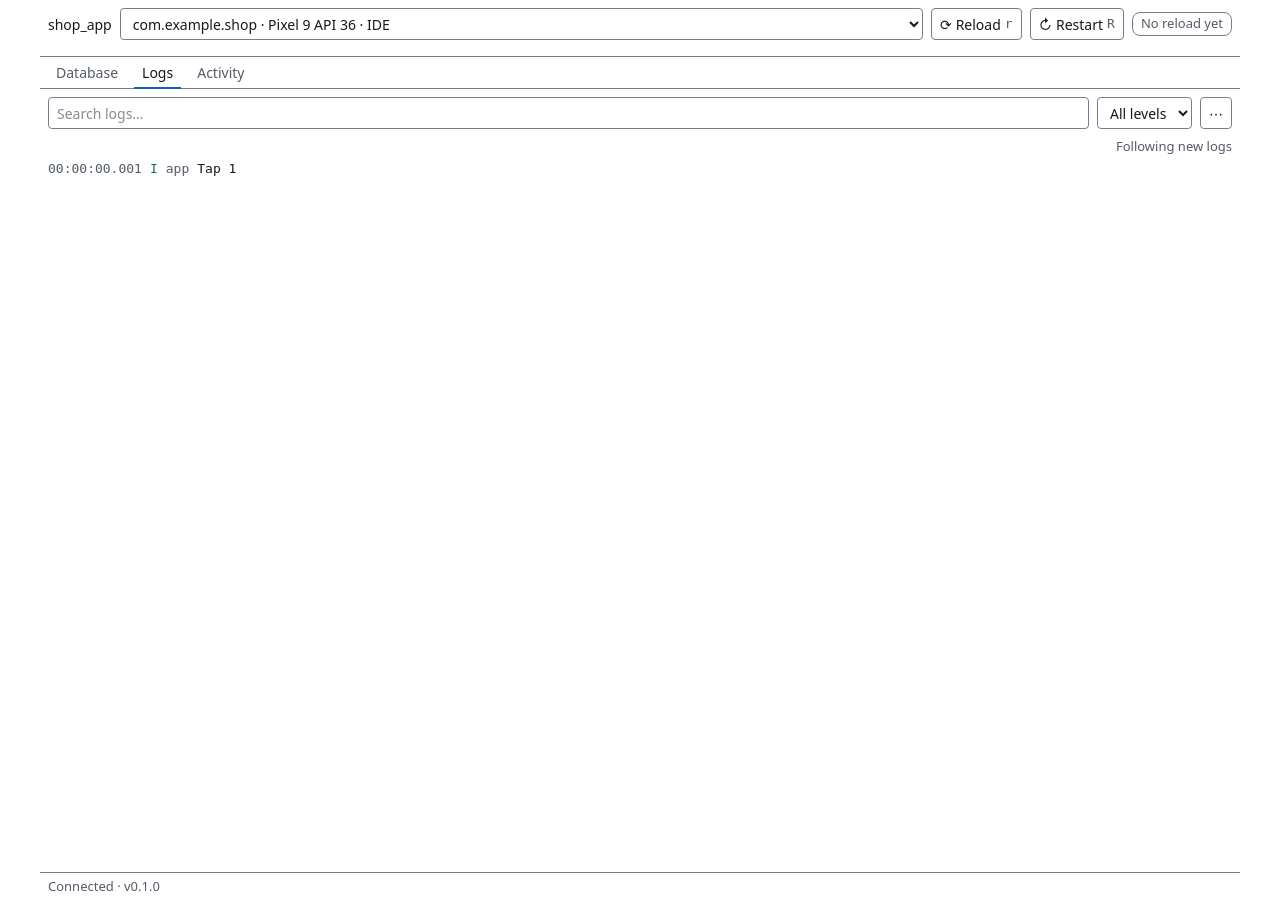
focus order and dialogs › the dialog traps Tab, closes on Escape and gives focus back to ⋯
Check: the text "shop_app" is shown, box 48,14 -> 112,34
Click the button named "More log options" at (1216, 113), box 1200,97 -> 1232,129
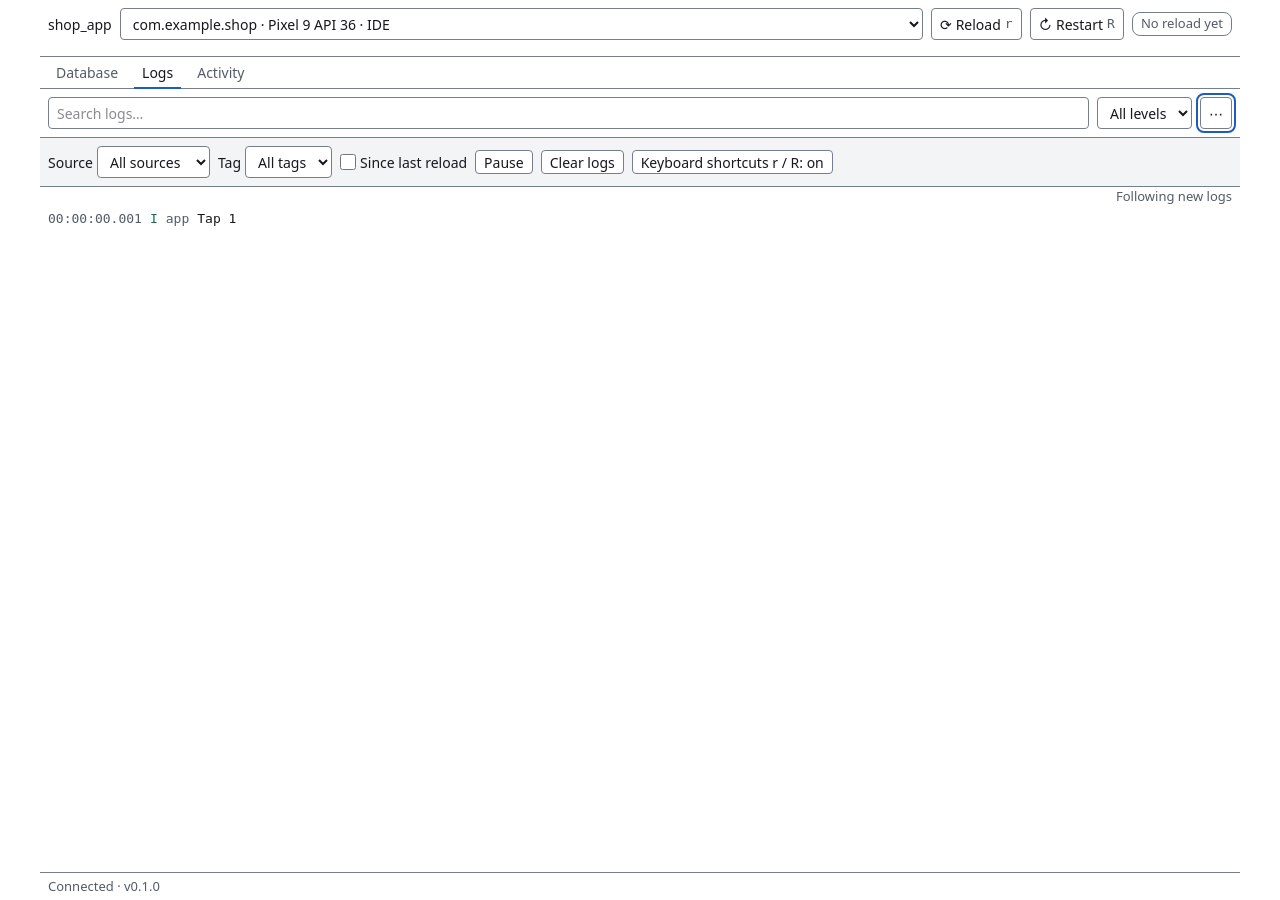
Click the button "Clear logs" at (582, 162), box 541,150 -> 624,174
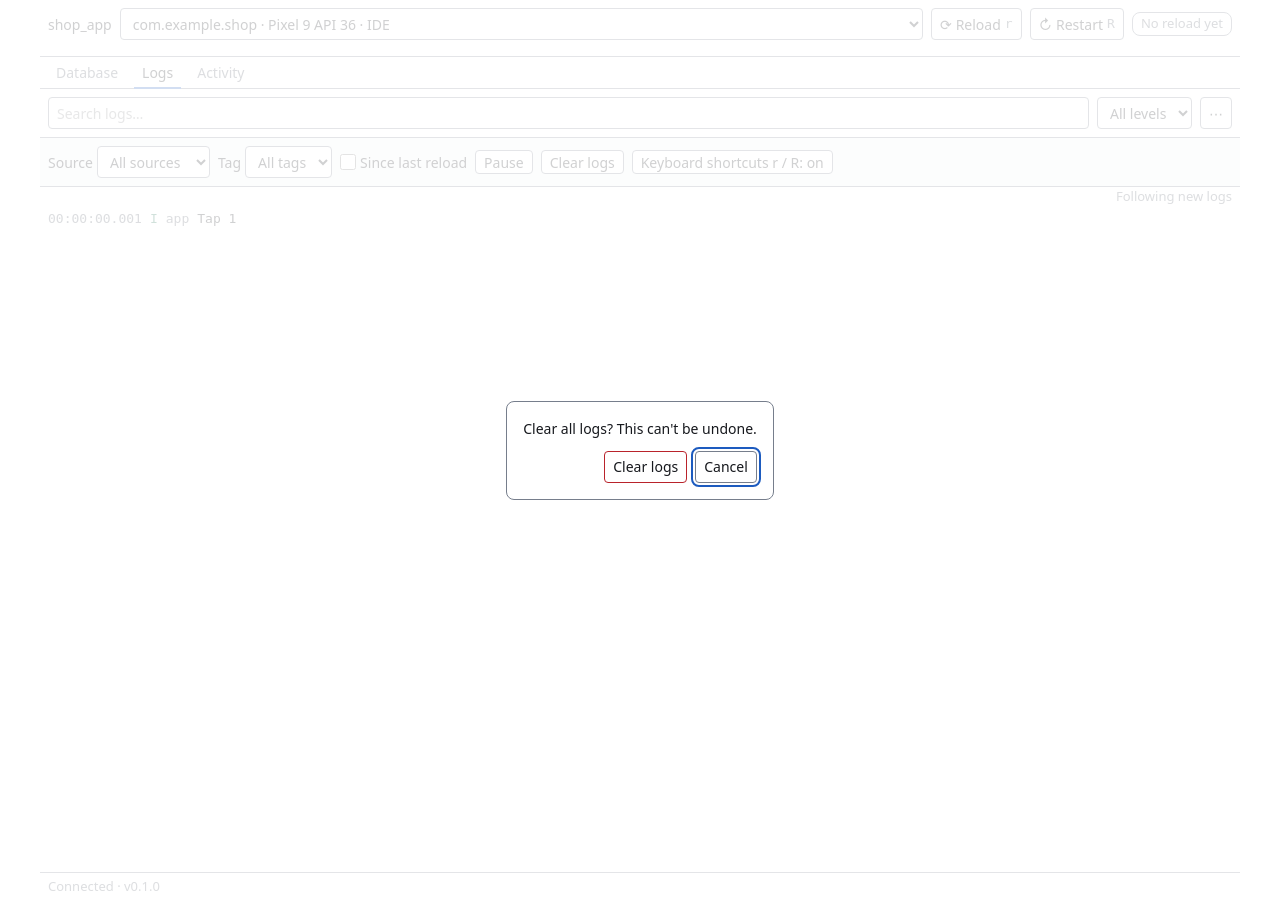
Press Tab
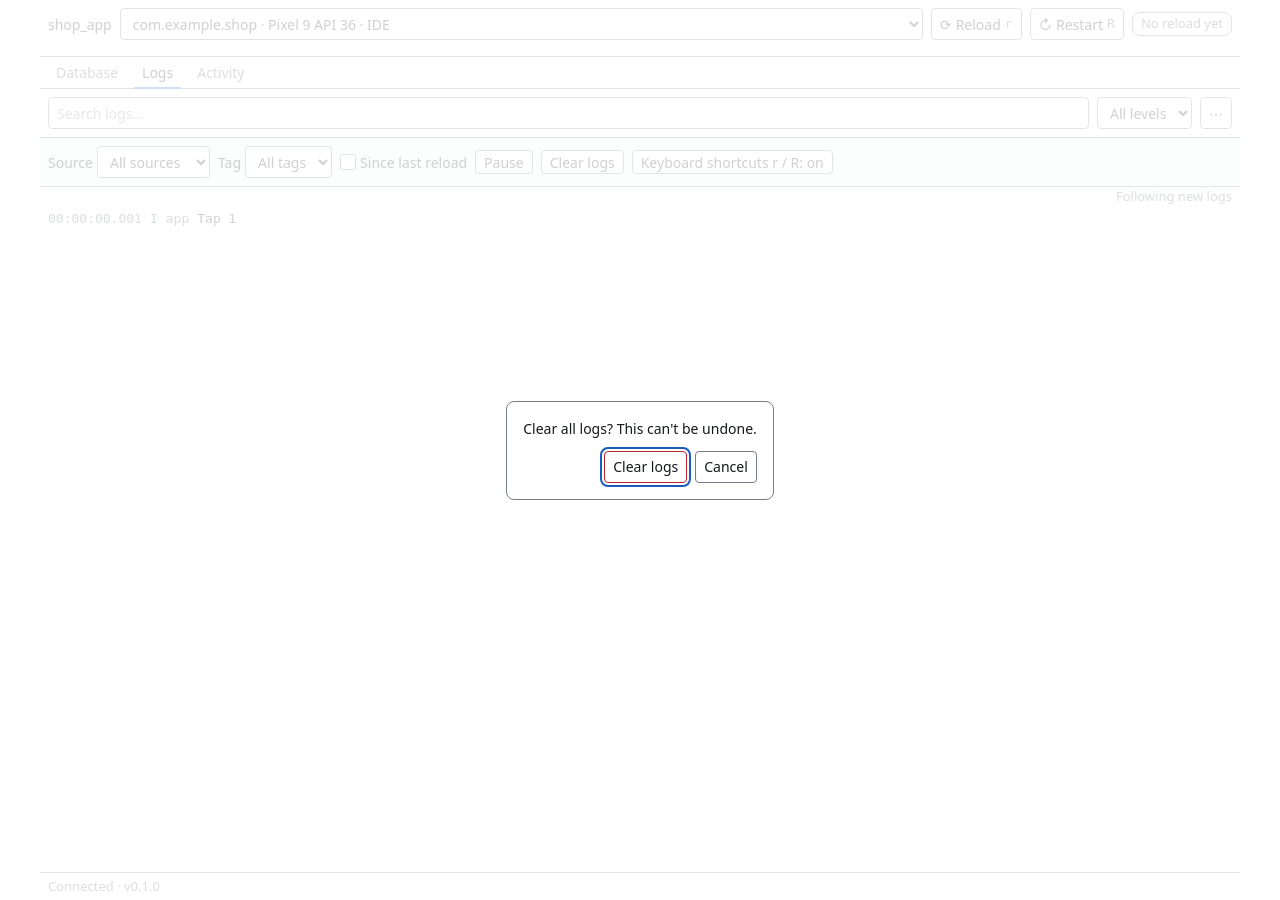
Press Tab
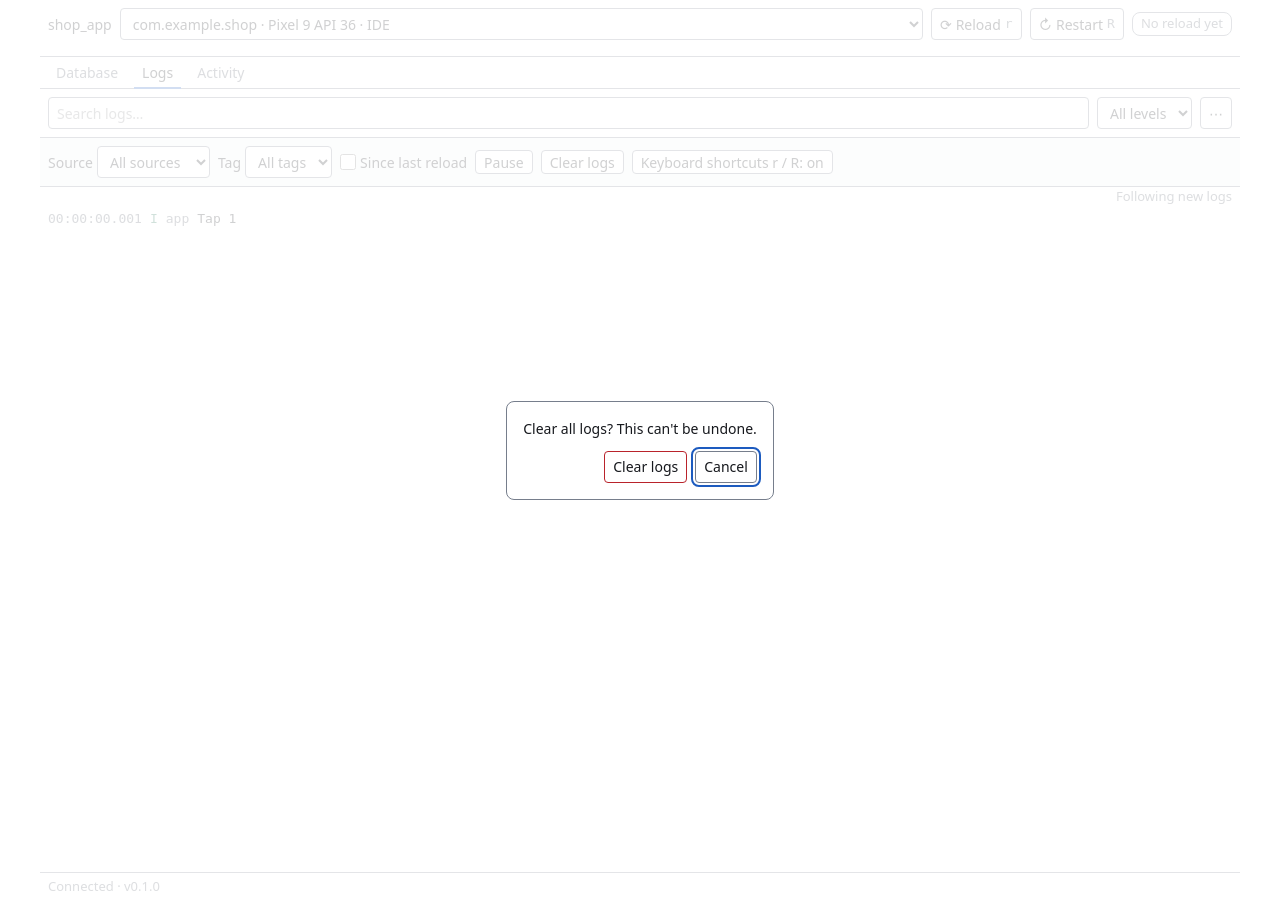
Press Shift+Tab
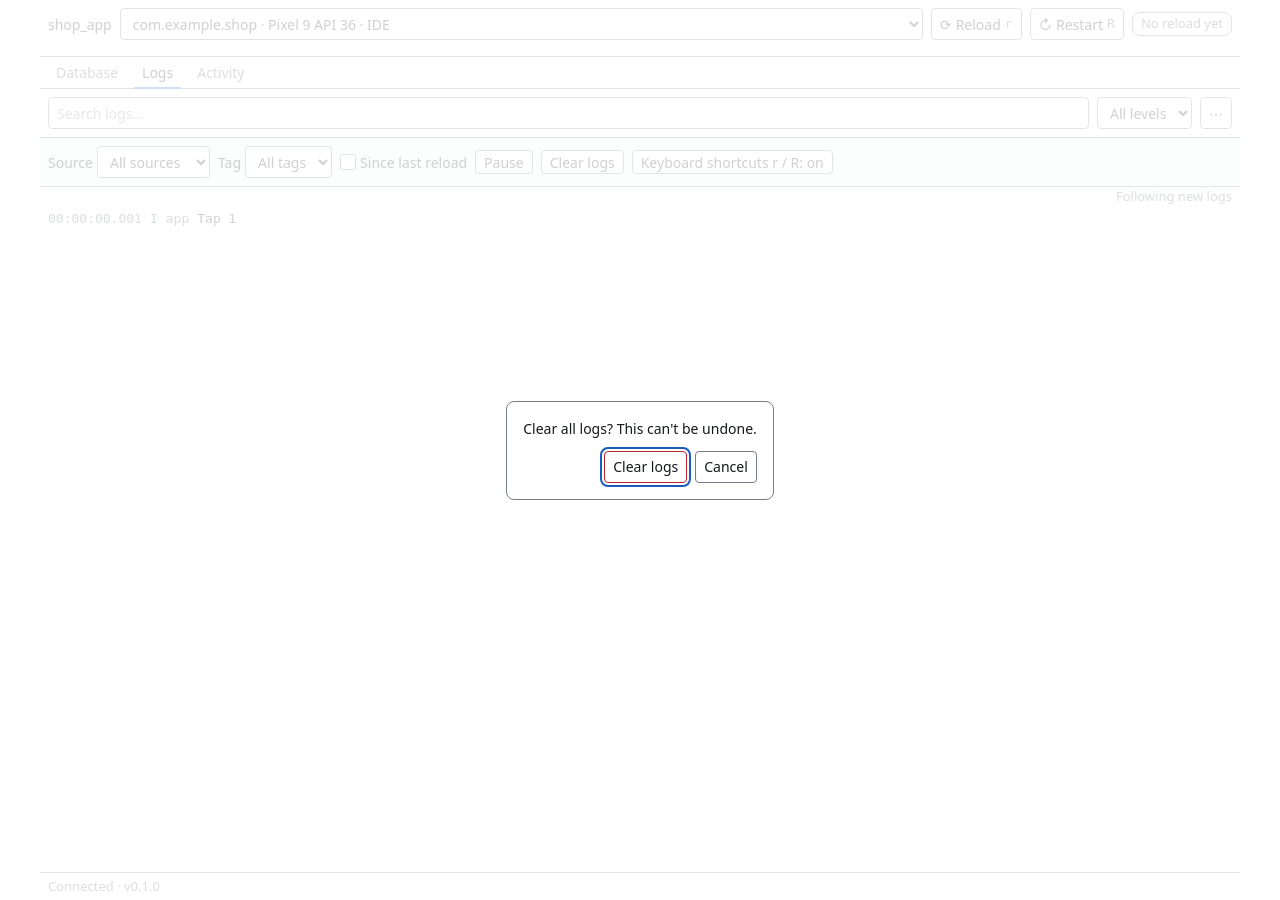
Press Escape
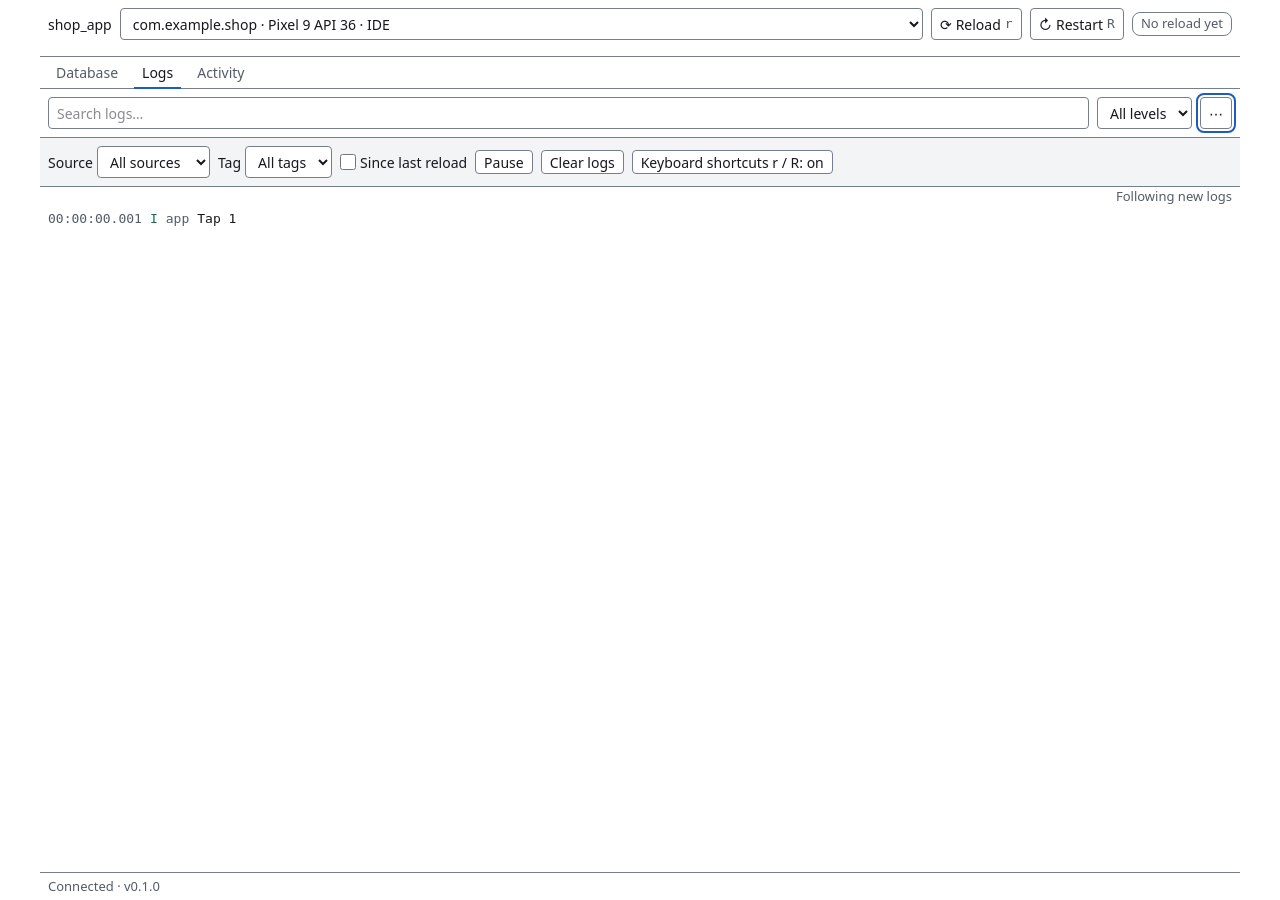
Check: the dialog is gone
